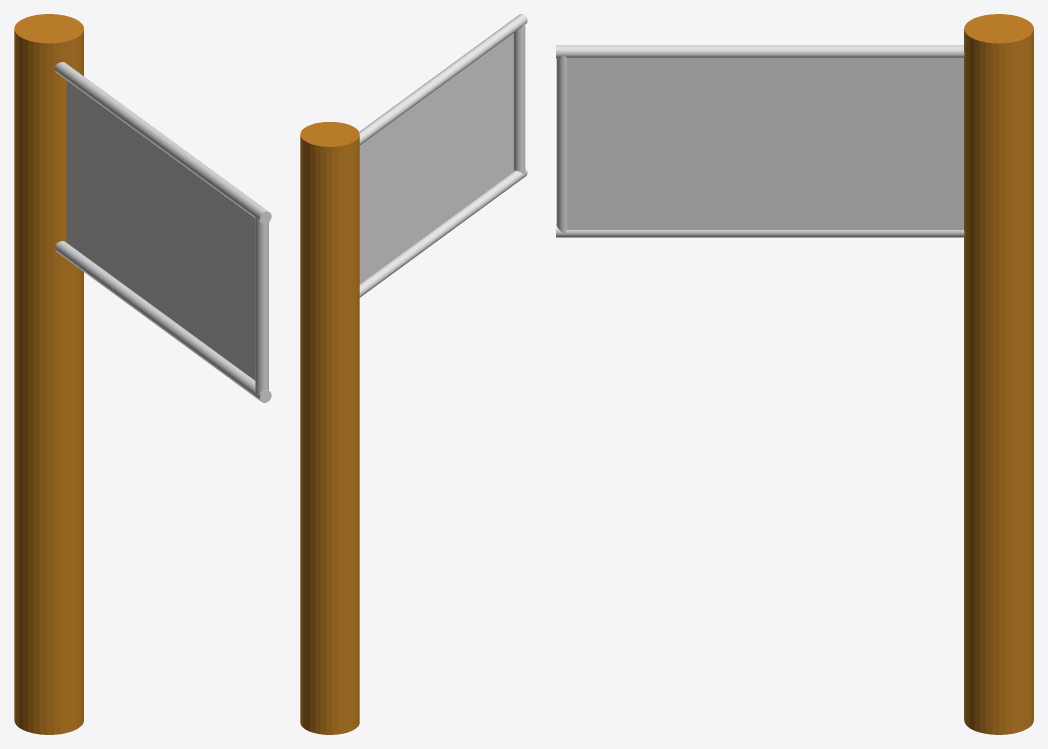
File: FINISHBW2.fbx
The picture shows the model from 3 angles, left to right: view 1: azimuth 30°, elevation 25°; view 2: azimuth 150°, elevation 25°; view 3: azimuth 270°, elevation 25°; orthographic projection. The views are drawn at different scales.
Parts seen in each view (by area): view 1: Cylinder.004, Plane.001, Cylinder.002, Cylinder.003, Cylinder.001; view 2: Cylinder.004, Plane.001, Cylinder.002, Cylinder.003, Cylinder.001; view 3: Plane.001, Cylinder.004, Cylinder.002, Cylinder.003, Cylinder.001.
Part boxes in pixels (x1=…): Cylinder.004: x1=14, y1=14, x2=83, y2=734; Plane.001: x1=66, y1=80, x2=255, y2=380; Cylinder.002: x1=54, y1=62, x2=271, y2=223; Cylinder.003: x1=54, y1=241, x2=271, y2=402; Cylinder.001: x1=255, y1=217, x2=268, y2=396; Cylinder.004: x1=300, y1=122, x2=359, y2=734; Plane.001: x1=359, y1=33, x2=513, y2=283; Cylinder.002: x1=359, y1=14, x2=527, y2=145; Cylinder.003: x1=359, y1=168, x2=527, y2=297; Cylinder.001: x1=513, y1=23, x2=525, y2=175; Plane.001: x1=567, y1=57, x2=963, y2=229; Cylinder.004: x1=964, y1=14, x2=1033, y2=734; Cylinder.002: x1=556, y1=45, x2=964, y2=58; Cylinder.003: x1=556, y1=224, x2=964, y2=237; Cylinder.001: x1=556, y1=55, x2=566, y2=234.
Bounding box in the file's own units: 313 × 3420 × 2143.
